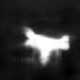plane: (19, 24, 73, 68)
